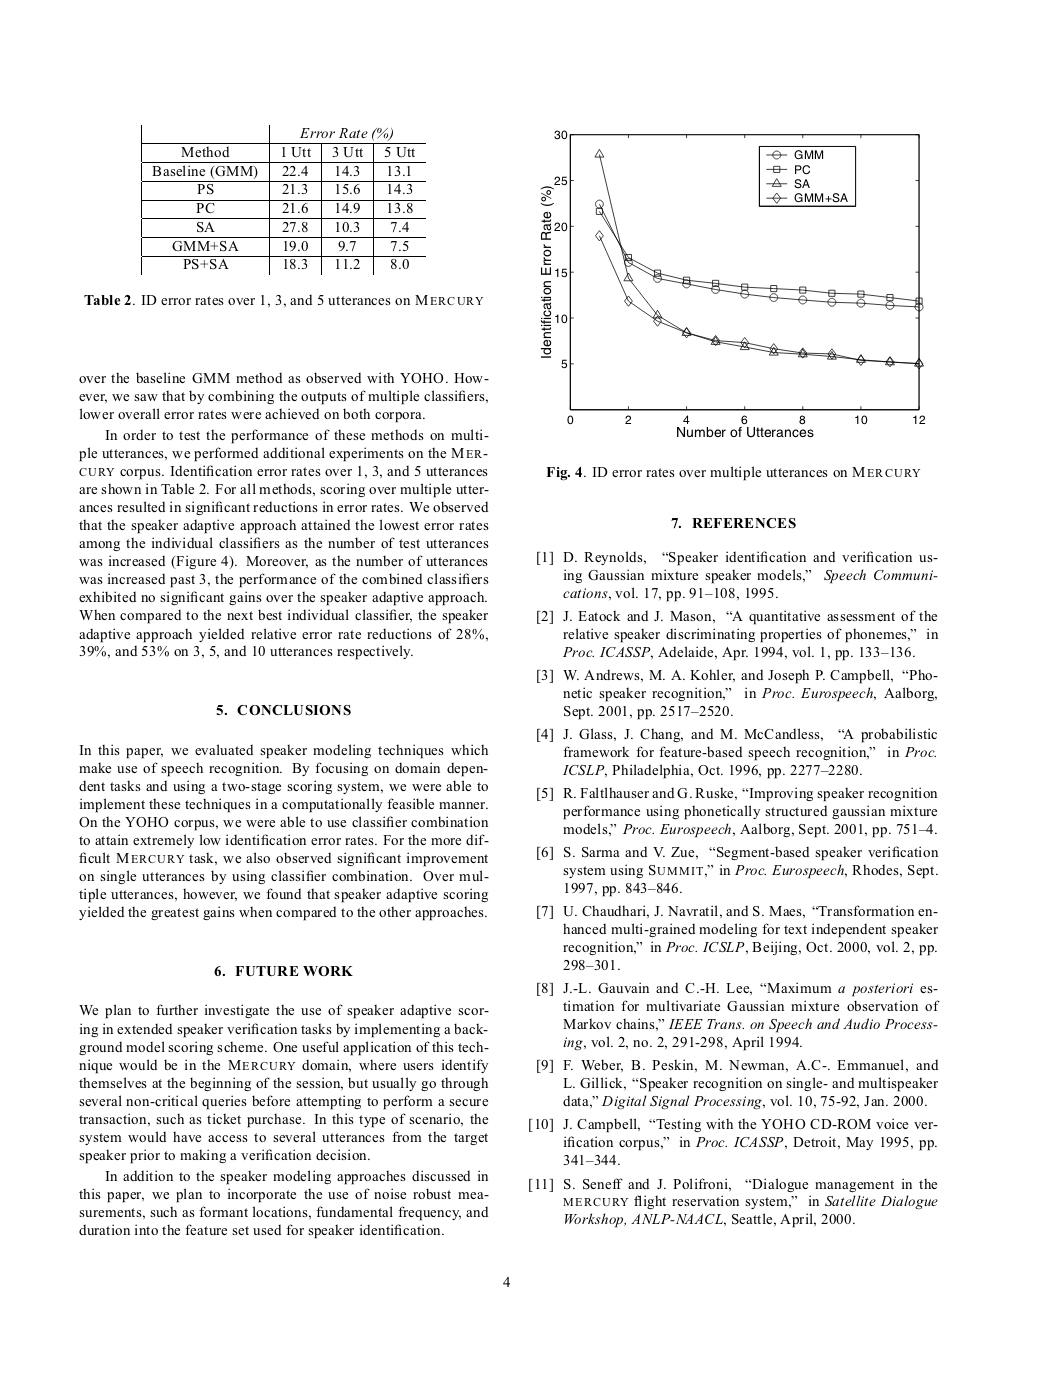Table: (142, 124, 425, 275)
figure: (541, 130, 925, 437)
